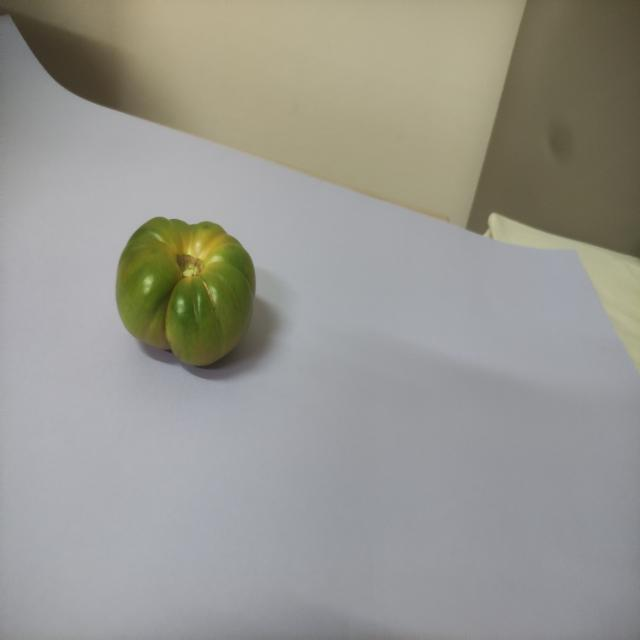yesil: (105, 192, 271, 365)
